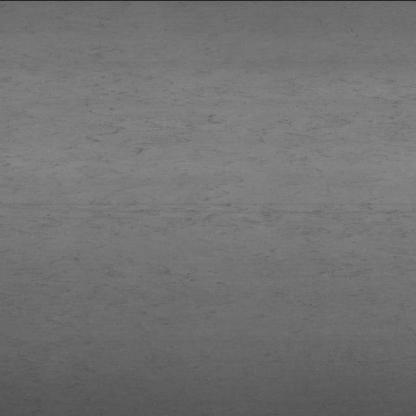silk_spot: (15, 13, 381, 175), (25, 181, 396, 305)
